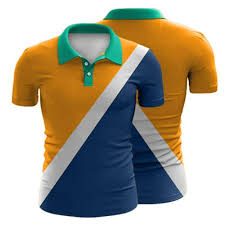C_polo shirt: (15, 22, 165, 220)
